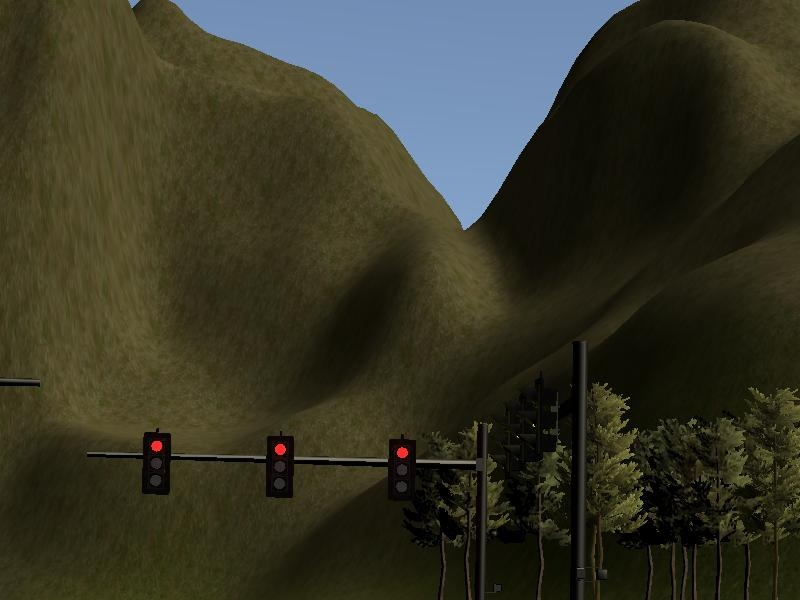red: (141, 432, 171, 500), (266, 434, 296, 502), (386, 440, 416, 508)
